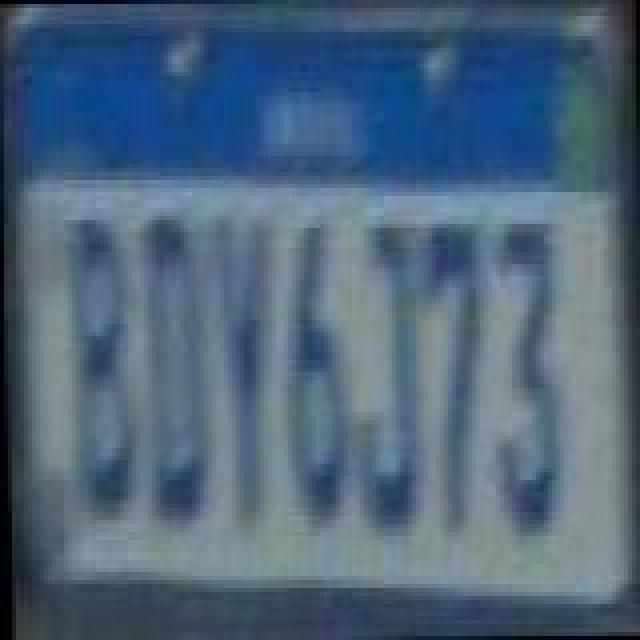3: (490, 220, 562, 540)
6: (280, 216, 352, 528)
7: (418, 222, 490, 542)
B: (62, 216, 138, 528)
D: (136, 214, 208, 526)
J: (346, 214, 422, 534)
Y: (208, 218, 280, 530)
